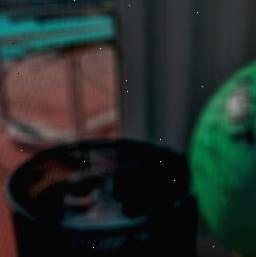algae: (192, 45, 256, 257)
